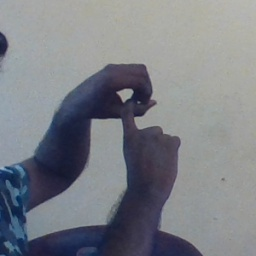Q: (75, 56, 186, 173)
